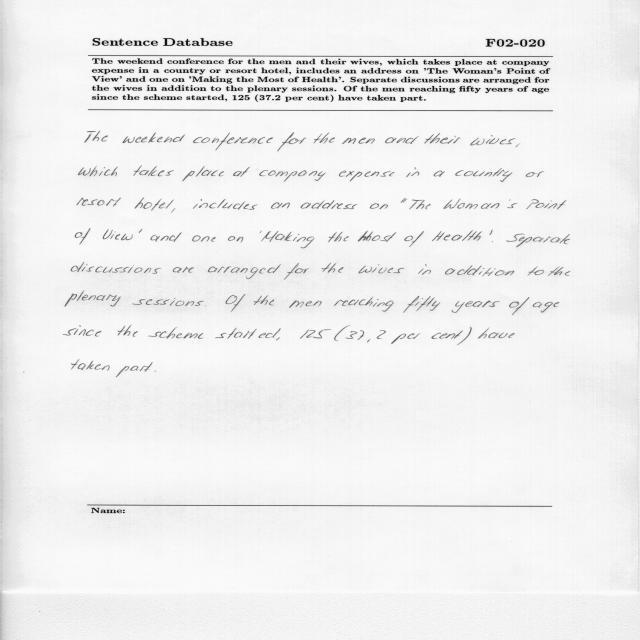word: (193, 133, 273, 151), (208, 264, 281, 279), (71, 262, 161, 274), (262, 231, 315, 248), (65, 291, 121, 307), (334, 298, 394, 312), (506, 234, 570, 247), (455, 168, 513, 182), (259, 170, 326, 182), (445, 266, 514, 277), (444, 199, 517, 209), (215, 328, 281, 339), (193, 199, 257, 210), (148, 327, 204, 339), (182, 166, 224, 181), (403, 296, 440, 313), (452, 300, 500, 313), (123, 133, 185, 143), (133, 298, 204, 306), (277, 133, 306, 152), (339, 171, 394, 181), (432, 230, 482, 241), (116, 362, 152, 377), (345, 330, 386, 343), (135, 198, 174, 211), (301, 200, 357, 209), (471, 135, 516, 146), (64, 325, 102, 337), (133, 166, 174, 177), (71, 360, 110, 371), (284, 263, 309, 280), (358, 231, 396, 242), (359, 265, 404, 274), (527, 200, 567, 210), (425, 133, 461, 144), (77, 198, 121, 207), (478, 328, 514, 339), (79, 166, 118, 176), (226, 294, 246, 312), (509, 297, 529, 315), (103, 230, 133, 241), (391, 333, 421, 344), (150, 232, 182, 242), (404, 231, 424, 247), (300, 329, 331, 339), (432, 330, 464, 339), (533, 302, 559, 313), (85, 131, 108, 143), (385, 136, 419, 144), (457, 327, 472, 345), (289, 300, 322, 308), (334, 325, 350, 341), (117, 325, 138, 337), (75, 229, 90, 245), (314, 133, 335, 144), (342, 137, 375, 144), (328, 232, 349, 243), (322, 263, 344, 273), (548, 266, 570, 276), (410, 200, 431, 210), (254, 295, 274, 305), (233, 167, 250, 177), (528, 266, 545, 276), (192, 236, 216, 242), (418, 264, 431, 275), (271, 202, 290, 209), (407, 168, 420, 178), (173, 267, 194, 273), (526, 172, 544, 178), (370, 204, 388, 210), (228, 236, 243, 243), (434, 171, 445, 177), (401, 198, 407, 203), (489, 230, 493, 235), (171, 208, 175, 212), (516, 144, 520, 147), (139, 229, 142, 233), (276, 338, 280, 341), (260, 231, 262, 233), (155, 371, 157, 372), (492, 241, 493, 242), (204, 306, 206, 306)
